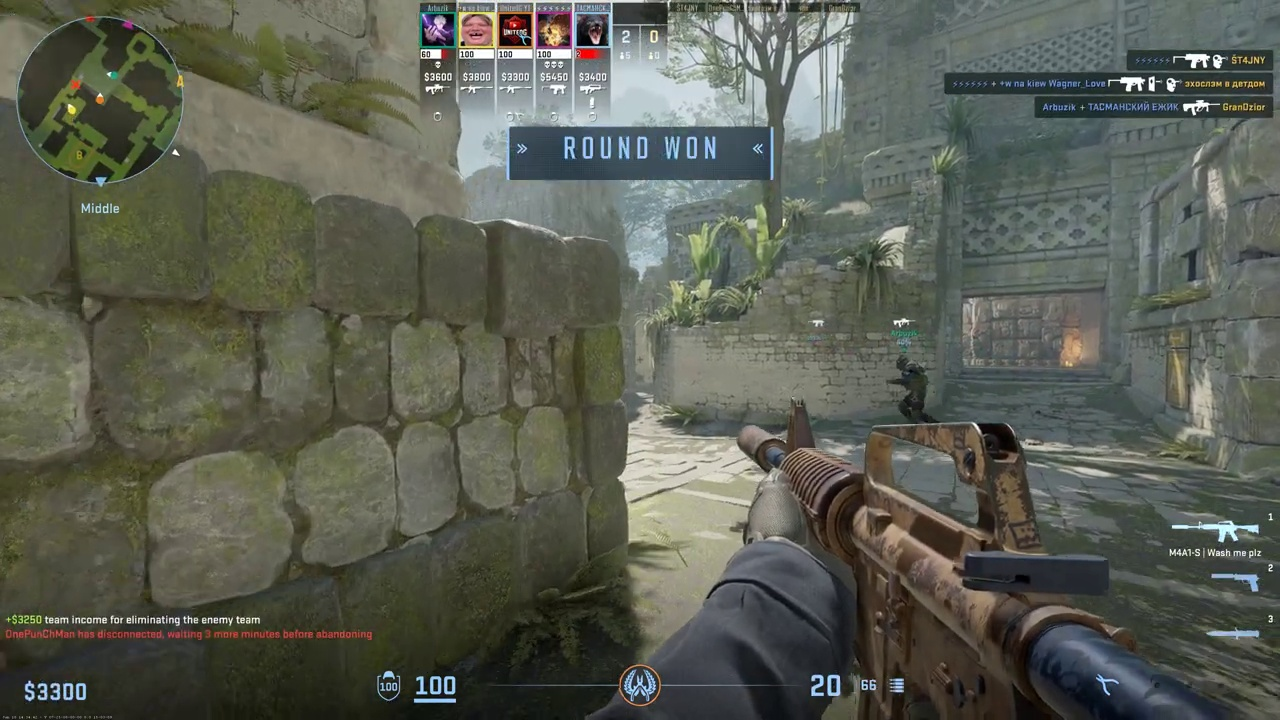CT: (894, 355, 937, 423)
